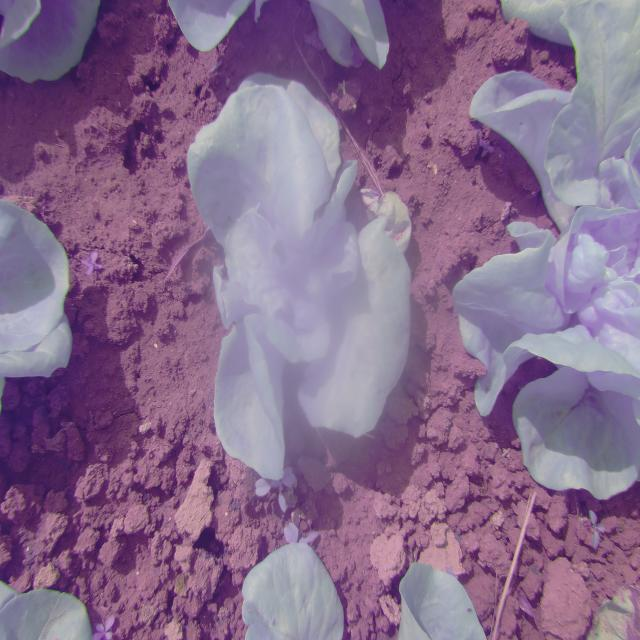vege: (184, 73, 418, 488)
